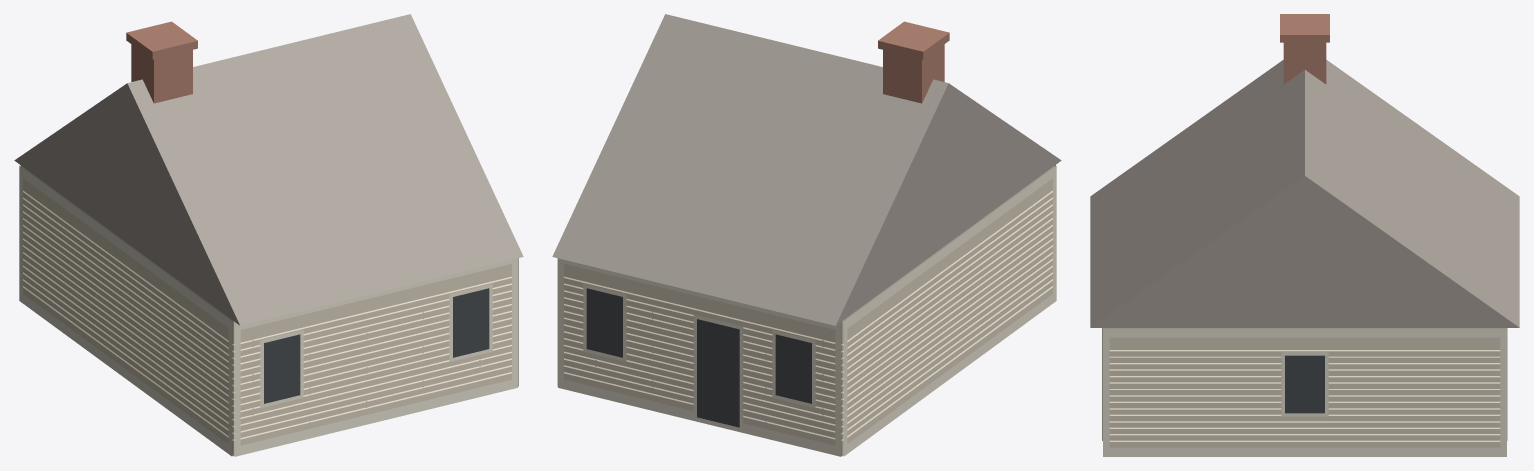
The model's file is recon_1835_north_d4_043__inferred_1835.glb.
3 views of the same model, side by side, from view 1: azimuth 30°, elevation 25°; view 2: azimuth 150°, elevation 25°; view 3: azimuth 270°, elevation 25° (orthographic). The views are drawn at different scales.
Parts seen in each view (by area): view 1: recon_1835_north_d4_043__inferred_1835; view 2: recon_1835_north_d4_043__inferred_1835; view 3: recon_1835_north_d4_043__inferred_1835.
Part boxes in pixels (left/top/right/bottom): recon_1835_north_d4_043__inferred_1835: left=14, top=14, right=523, bottom=456; recon_1835_north_d4_043__inferred_1835: left=552, top=14, right=1061, bottom=456; recon_1835_north_d4_043__inferred_1835: left=1090, top=14, right=1519, bottom=456.
Bounding box in the file's own units: 6.18 × 6.85 × 8.43.
